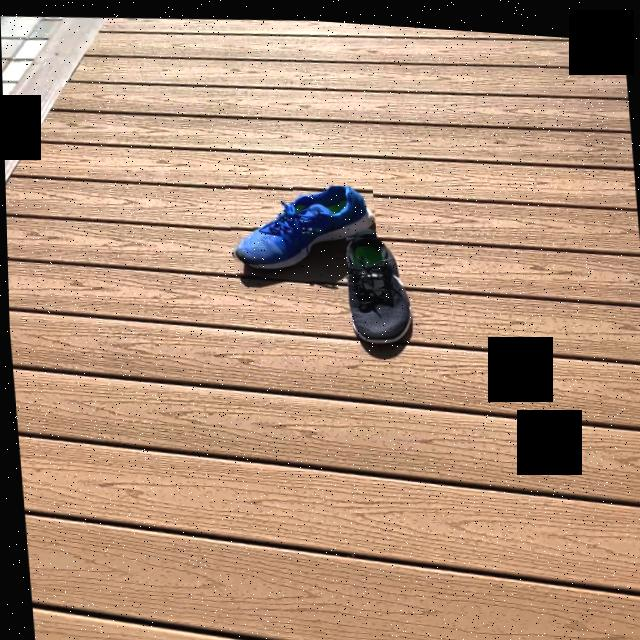shoe: (232, 182, 375, 274), (348, 233, 412, 359)
